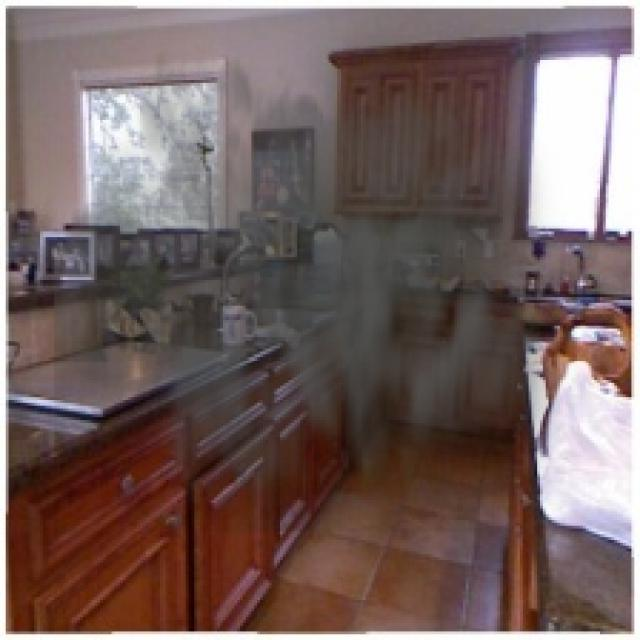smoke: (54, 0, 575, 532)
